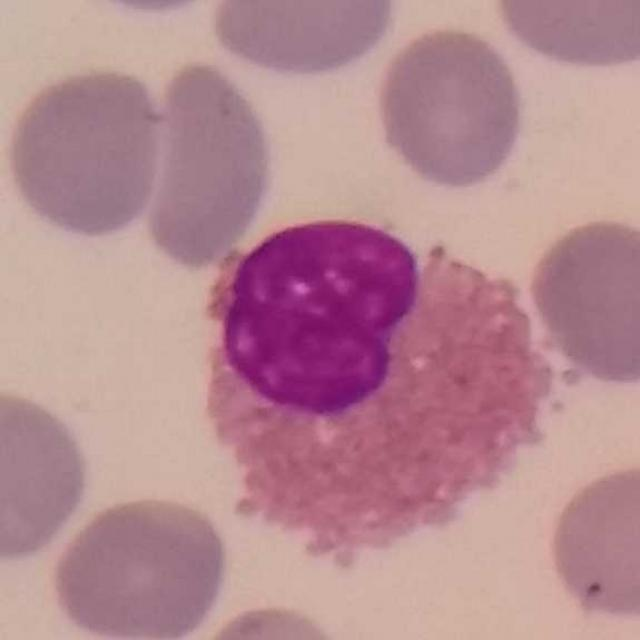Eosinophil: (183, 221, 546, 561)
RBC: (132, 56, 280, 272), (0, 60, 170, 243), (44, 489, 233, 640), (369, 20, 531, 193), (522, 210, 640, 388), (0, 380, 97, 566), (542, 455, 640, 626), (203, 0, 407, 82), (487, 0, 638, 73), (178, 599, 360, 640), (57, 0, 248, 21)
